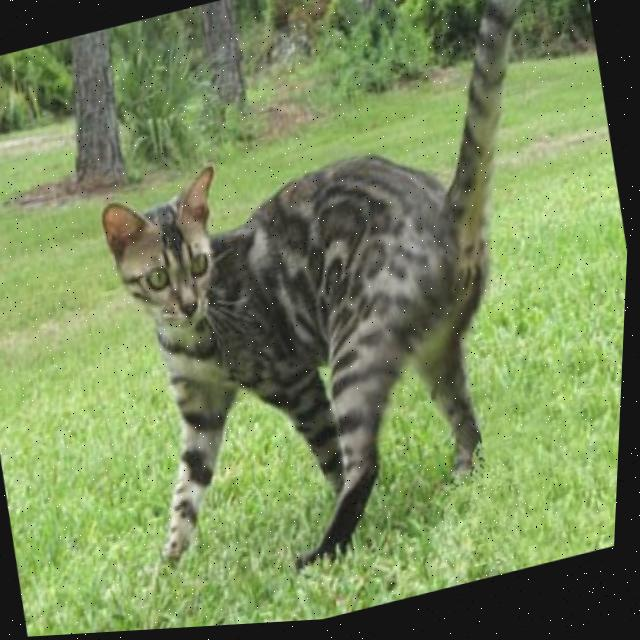Bengal: (43, 0, 640, 625)
